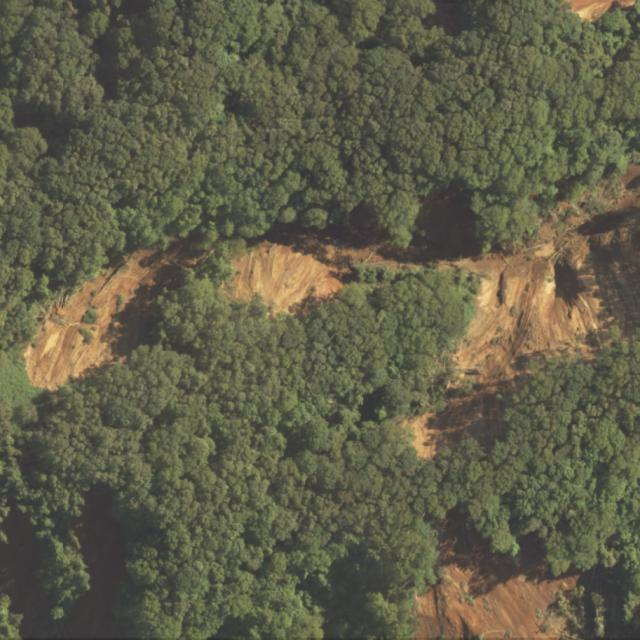landslide: (225, 164, 640, 461), (22, 246, 199, 391), (416, 513, 585, 640)
